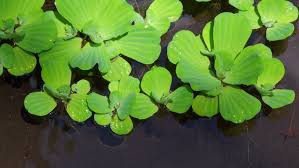water_hyacinth: (0, 1, 298, 133)
